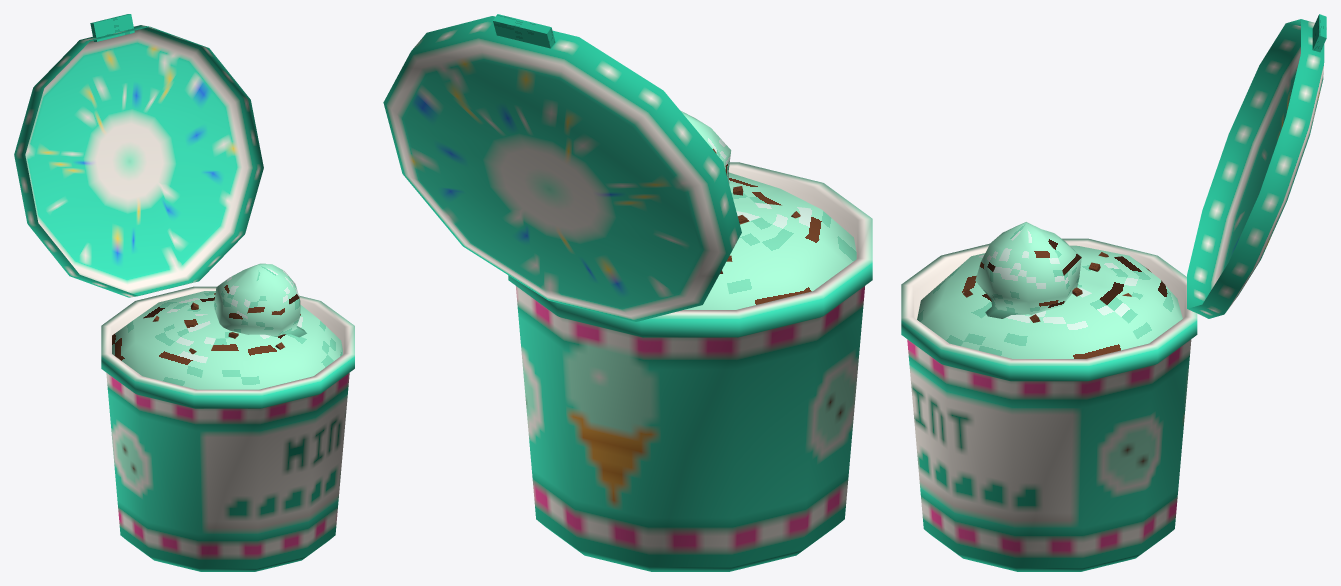
Rendered from Flavor Tub Mint.fbx.
The picture shows the model from 3 angles, left to right: view 1: azimuth 30°, elevation 25°; view 2: azimuth 150°, elevation 25°; view 3: azimuth 270°, elevation 25°; orthographic projection. The views are drawn at different scales.
Visible parts, largest first — view 1: Flavor Tub Mint lid, Flavor Tub Mint tub, Flavor Tub Mint ice cream, Flavor Tub Mint swirl, Flavor Tub Mint lid tab; view 2: Flavor Tub Mint tub, Flavor Tub Mint lid, Flavor Tub Mint ice cream, Flavor Tub Mint lid tab, Flavor Tub Mint swirl; view 3: Flavor Tub Mint tub, Flavor Tub Mint lid, Flavor Tub Mint ice cream, Flavor Tub Mint swirl.
Part boxes in pixels (x1=…): Flavor Tub Mint lid: x1=14, y1=25, x2=263, y2=297; Flavor Tub Mint tub: x1=101, y1=286, x2=354, y2=571; Flavor Tub Mint ice cream: x1=112, y1=291, x2=342, y2=389; Flavor Tub Mint swirl: x1=214, y1=263, x2=306, y2=337; Flavor Tub Mint lid tab: x1=90, y1=14, x2=134, y2=41; Flavor Tub Mint tub: x1=508, y1=162, x2=872, y2=571; Flavor Tub Mint lid: x1=383, y1=16, x2=741, y2=321; Flavor Tub Mint ice cream: x1=684, y1=172, x2=856, y2=309; Flavor Tub Mint lid tab: x1=493, y1=14, x2=555, y2=48; Flavor Tub Mint swirl: x1=680, y1=110, x2=731, y2=183; Flavor Tub Mint tub: x1=901, y1=238, x2=1197, y2=571; Flavor Tub Mint lid: x1=1187, y1=19, x2=1324, y2=318; Flavor Tub Mint ice cream: x1=917, y1=245, x2=1182, y2=358; Flavor Tub Mint swirl: x1=975, y1=222, x2=1081, y2=318.
Bounding box in the file's own units: 0.3033 × 0.5406 × 0.4191.
Materials: 5 (5 with a texture image).
